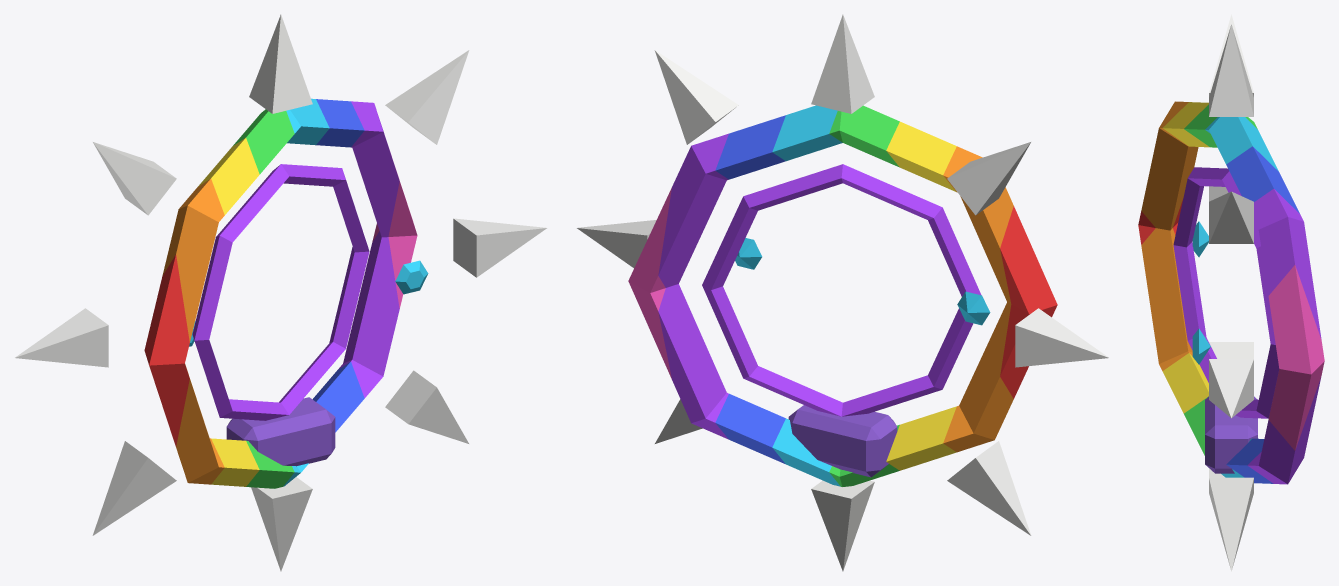
The model's file is RainbowChakram.fbx.
The picture shows the model from 3 angles, left to right: view 1: azimuth 30°, elevation 25°; view 2: azimuth 150°, elevation 25°; view 3: azimuth 270°, elevation 25°; orthographic projection. The views are drawn at different scales.
Visible parts, largest first — view 1: RainbowChakram; view 2: RainbowChakram; view 3: RainbowChakram.
Part boxes in pixels (bbox=[...]): RainbowChakram: bbox=[15, 14, 546, 571]; RainbowChakram: bbox=[577, 14, 1108, 571]; RainbowChakram: bbox=[1138, 14, 1324, 571].
Size of the model in its own units: 2.9 by 2.9 by 0.9106.
Materials: 1 (1 with a texture image).
